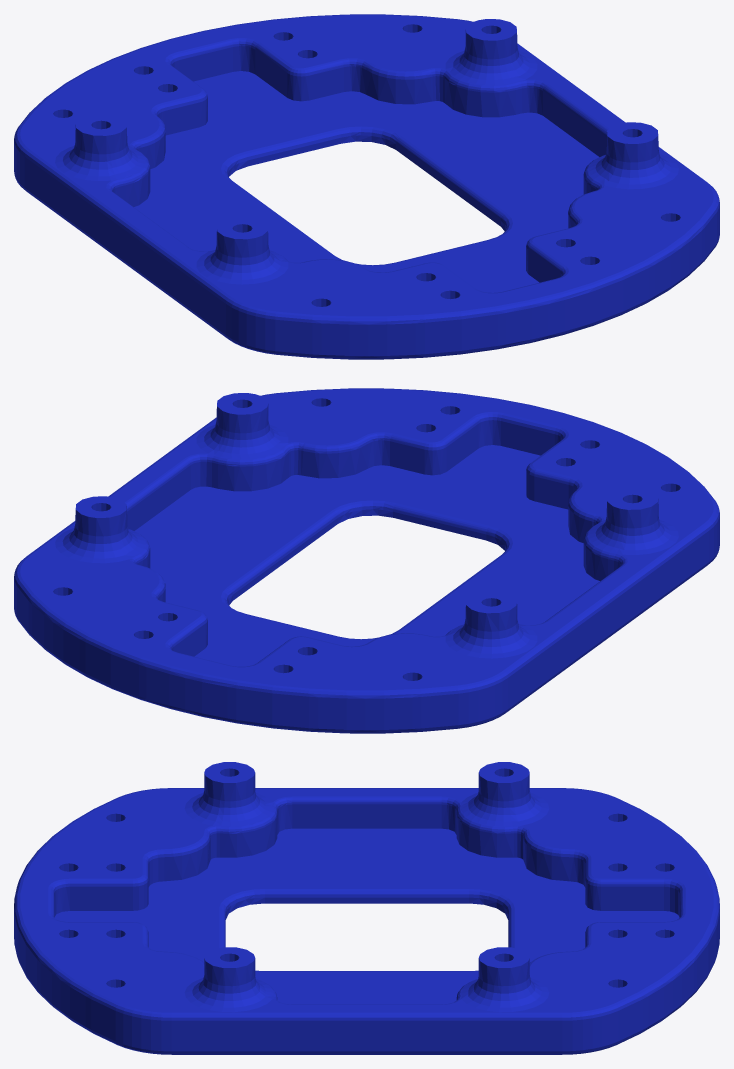
Rendered from BasePlate.dae.
The picture shows the model from 3 angles, top to bottom: view 1: azimuth 30°, elevation 25°; view 2: azimuth 150°, elevation 25°; view 3: azimuth 270°, elevation 25°; orthographic projection. The views are drawn at different scales.
Visible parts, largest first — view 1: BasePlate; view 2: BasePlate; view 3: BasePlate.
Boxes of the visible parts, x1,y1,x2,y2 form: BasePlate: (14, 14, 719, 359); BasePlate: (14, 388, 719, 733); BasePlate: (14, 762, 719, 1054).
Size of the model in its own units: 0.083 by 0.108 by 0.013.
